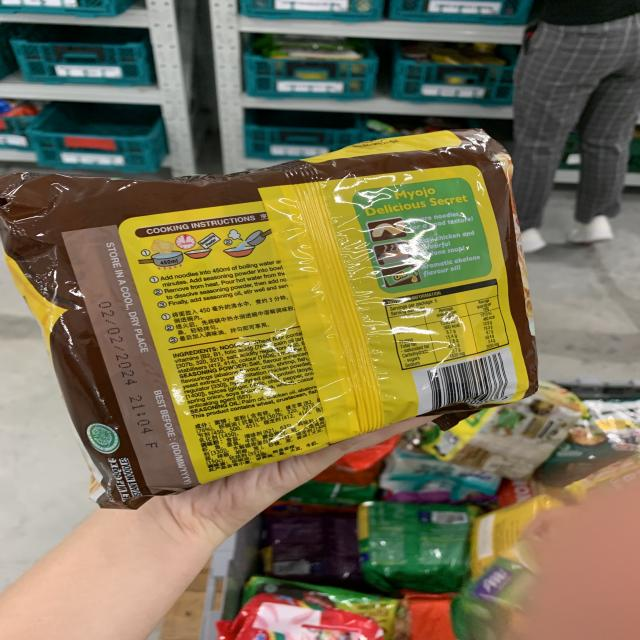object_name: (46, 180, 531, 413)
